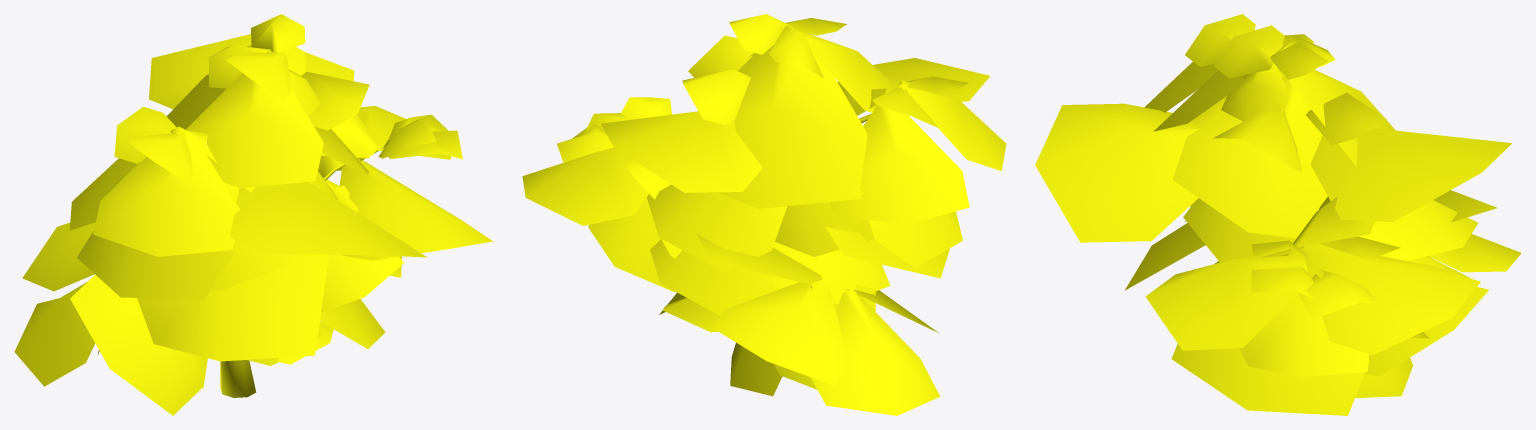
The picture shows the model from 3 angles, left to right: view 1: azimuth 30°, elevation 25°; view 2: azimuth 150°, elevation 25°; view 3: azimuth 270°, elevation 25°; orthographic projection. The views are drawn at different scales.
Visible parts, largest first — view 1: Cylinder; view 2: Cylinder; view 3: Cylinder.
Boxes of the visible parts, x1,y1,x2,y2 form: Cylinder: (14, 14, 493, 415); Cylinder: (522, 14, 1006, 415); Cylinder: (1035, 14, 1521, 415).
Size of the model in its own units: 69.98 by 56.03 by 66.16.
Materials: 2 (2 with a texture image).
